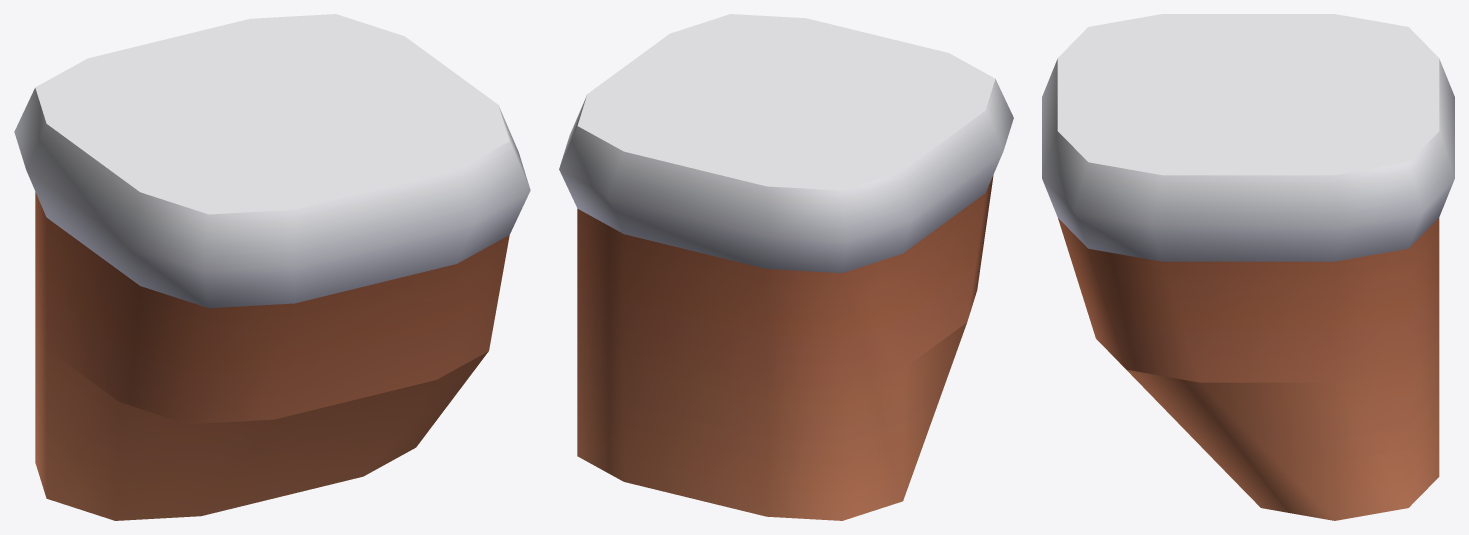
The model's file is block-snow-edge.glb.
3 views of the same model, side by side, from view 1: azimuth 30°, elevation 25°; view 2: azimuth 150°, elevation 25°; view 3: azimuth 270°, elevation 25° (orthographic). The views are drawn at different scales.
Visible parts, largest first — view 1: block-snow-edge; view 2: block-snow-edge; view 3: block-snow-edge.
Boxes of the visible parts, x1=… form: block-snow-edge: x1=14, y1=14, x2=530, y2=520; block-snow-edge: x1=559, y1=14, x2=1013, y2=520; block-snow-edge: x1=1042, y1=14, x2=1454, y2=520.
Bounding box in the file's own units: 1.08 × 1 × 1.08.
Materials: 1 (1 with a texture image).
